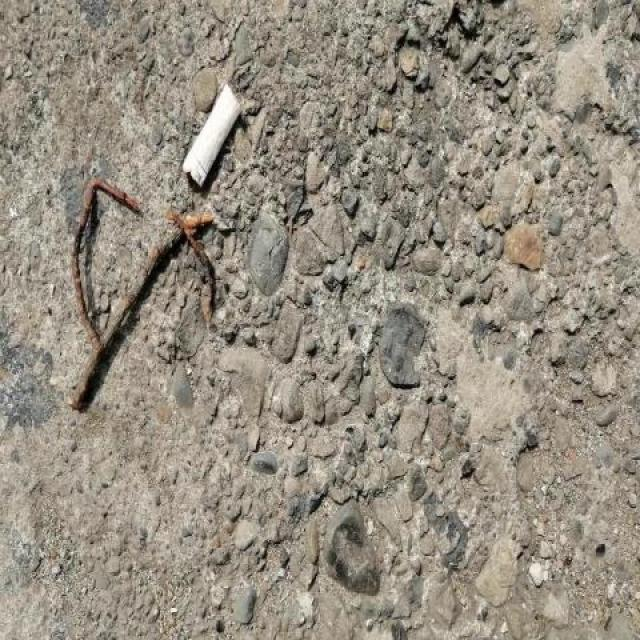non-organic waste: (176, 80, 251, 197)
